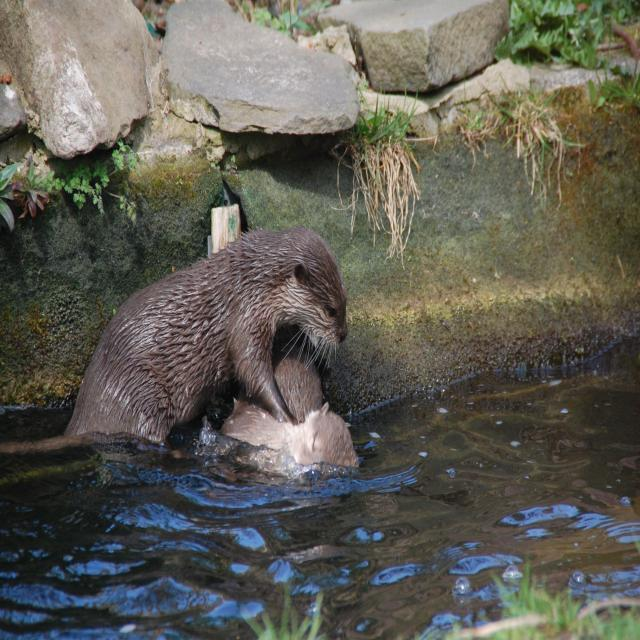otter: (72, 227, 350, 433)
